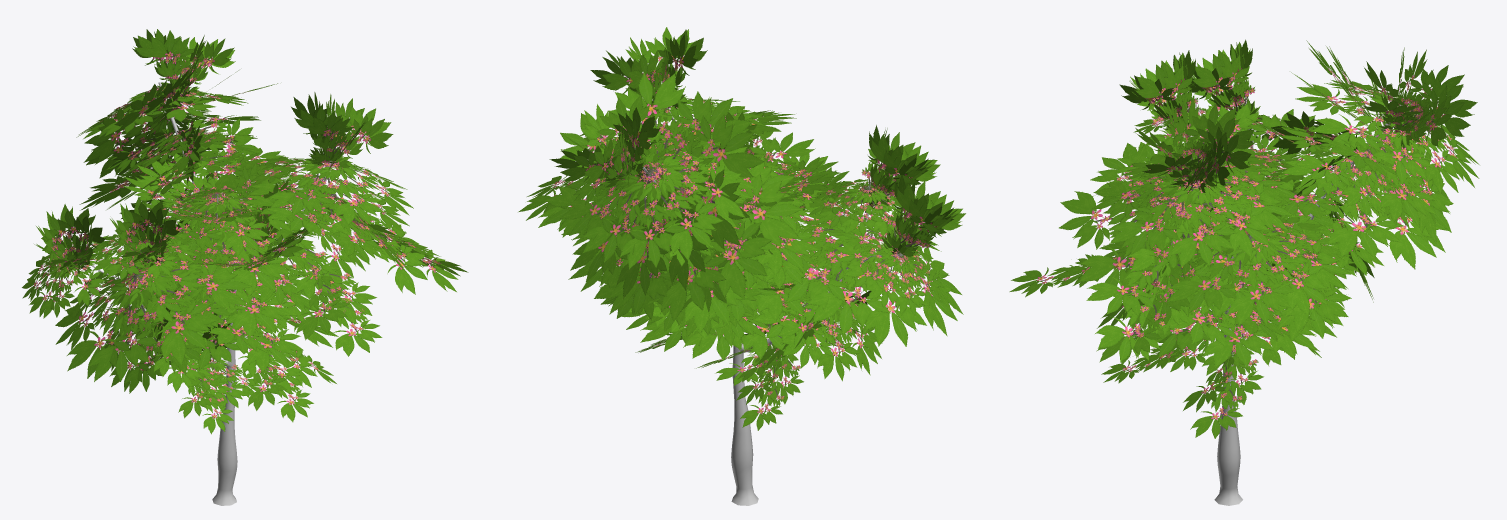
Rendered from CEIBA_ROSADA_LISTO.fbx.
The picture shows the model from 3 angles, left to right: view 1: azimuth 30°, elevation 25°; view 2: azimuth 150°, elevation 25°; view 3: azimuth 270°, elevation 25°; orthographic projection. The views are drawn at different scales.
Visible parts, largest first — view 1: ceibarosada_LOD0; view 2: ceibarosada_LOD0; view 3: ceibarosada_LOD0.
Boxes of the visible parts, bbox=[...] form: ceibarosada_LOD0: bbox=[22, 29, 468, 505]; ceibarosada_LOD0: bbox=[518, 27, 965, 505]; ceibarosada_LOD0: bbox=[1009, 39, 1479, 505].
Size of what is drawn, in the model's own units: 5.46 by 5.43 by 4.94.
